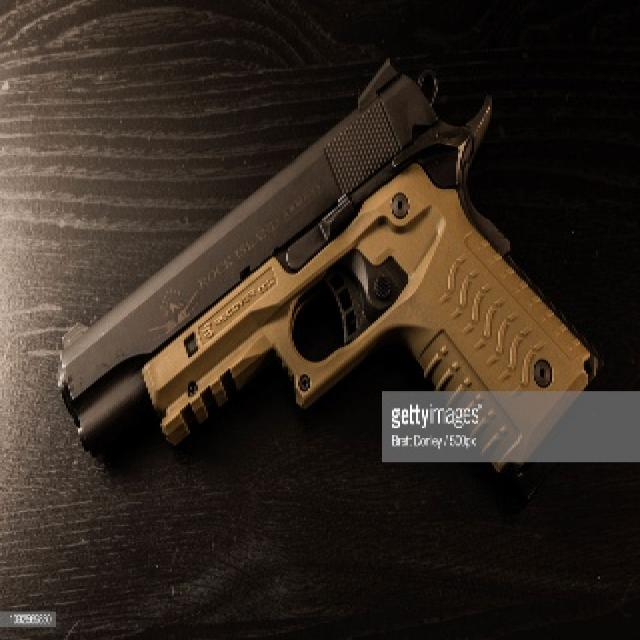handgun: (49, 48, 607, 469)
